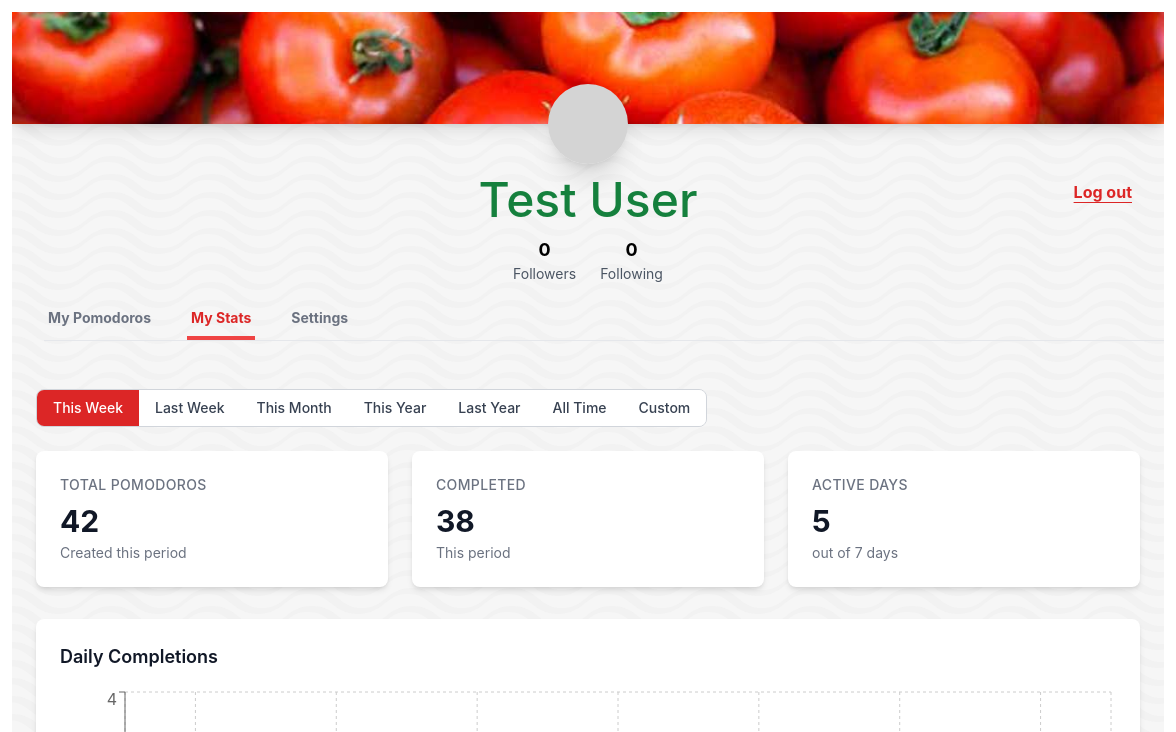
UserStats Component › Custom Date Range Controls › shows custom date inputs when Custom button is clicked
The image size is (1176, 732).
Click the button "Custom".
click(664, 408)  # box x1=622 y1=390 x2=706 y2=426
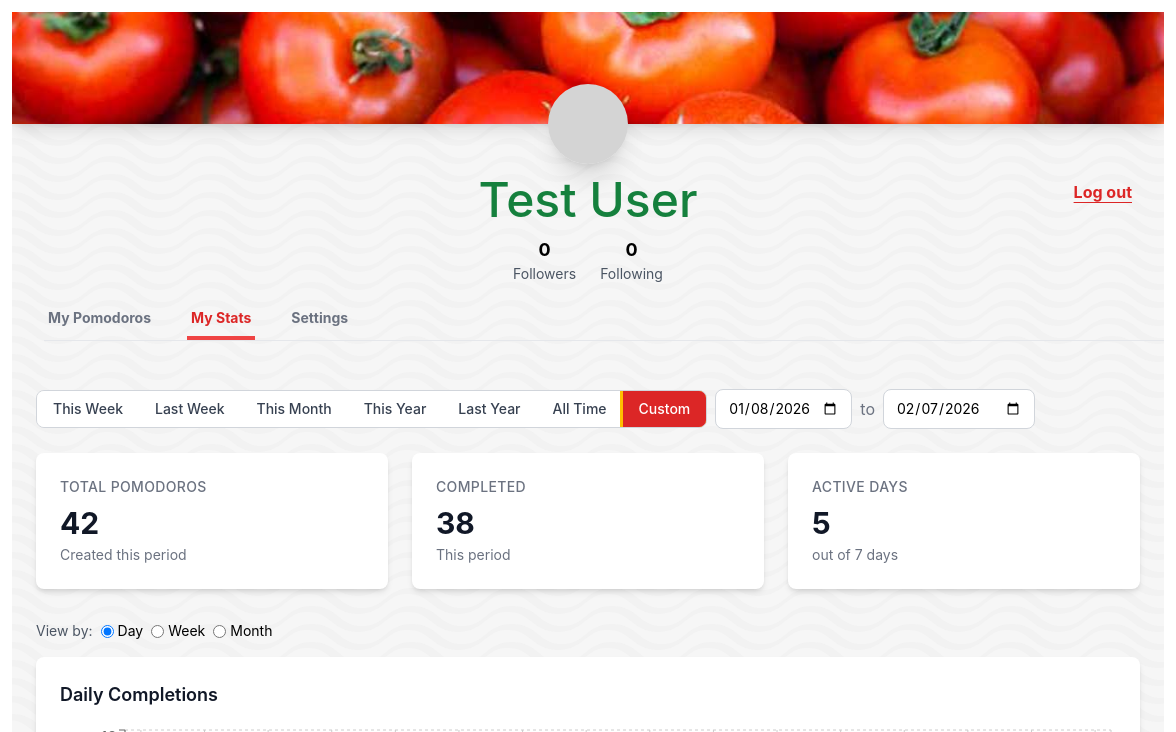
Expected: the element with test id "custom-date-range" is shown, x1=715 y1=389 x2=1035 y2=429
